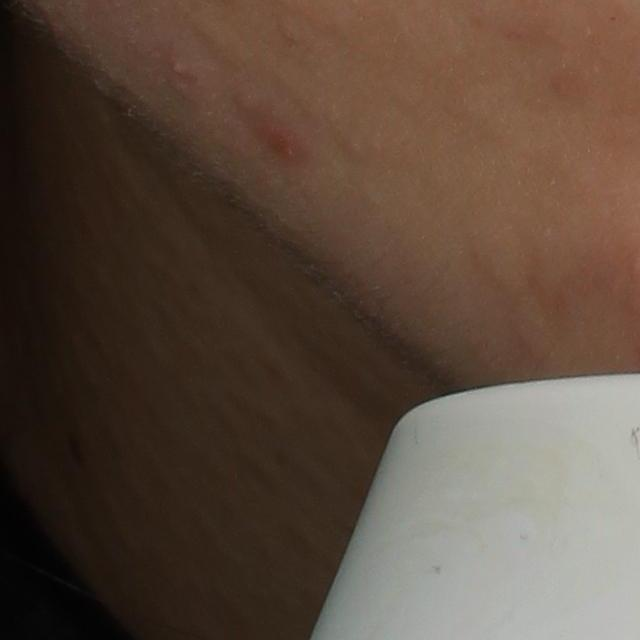papule: (249, 119, 313, 162), (167, 58, 187, 79)
